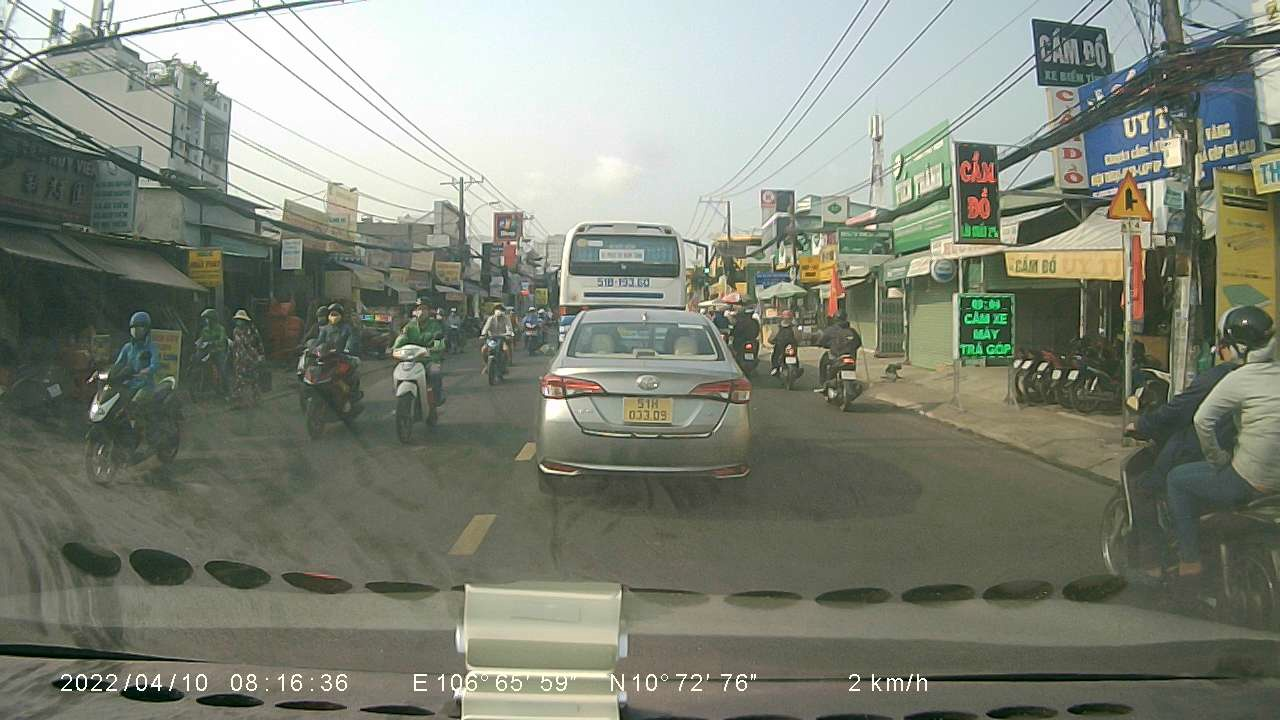Giao nhau voi duong khong uu tien: (1103, 168, 1159, 227)
